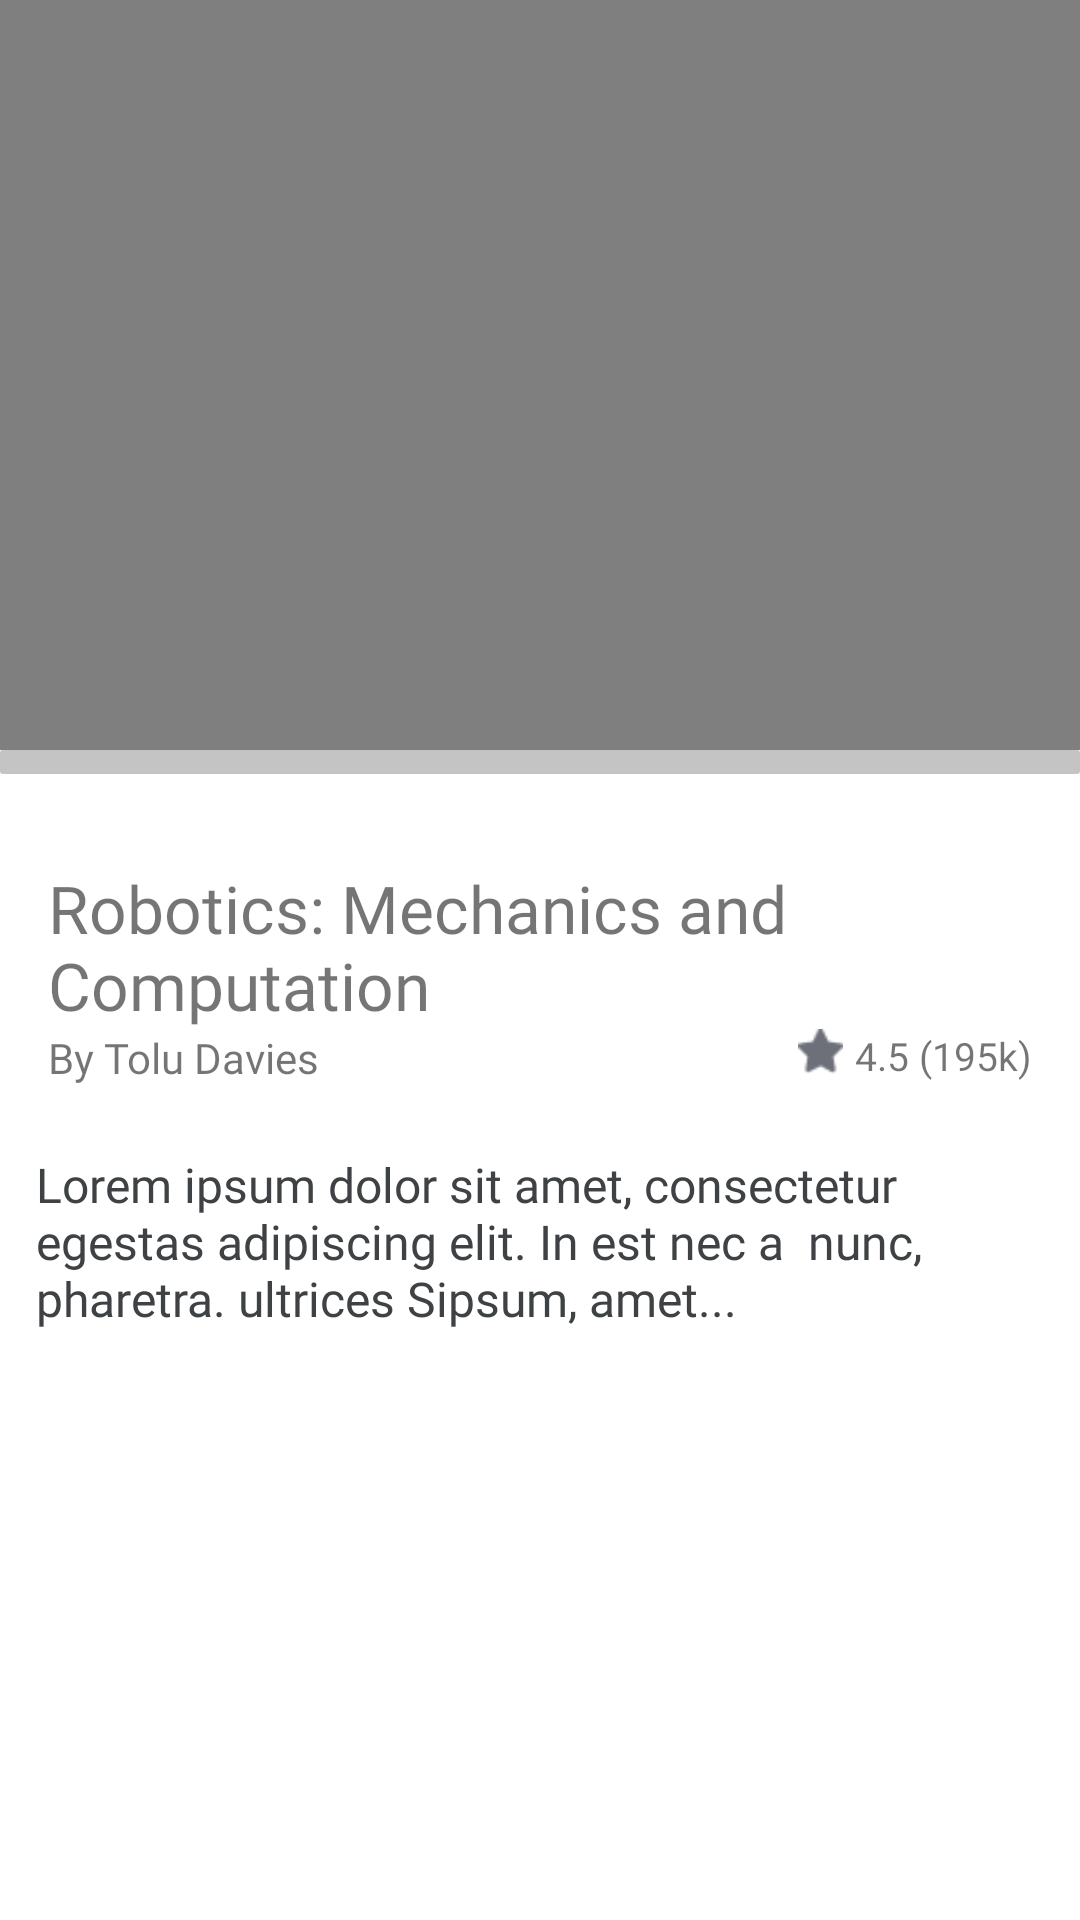

Icons on this 1080*1920 Android screen, each with its box as (x1, y1, x2, y2):
Star Icon: (798, 1029, 843, 1073)
